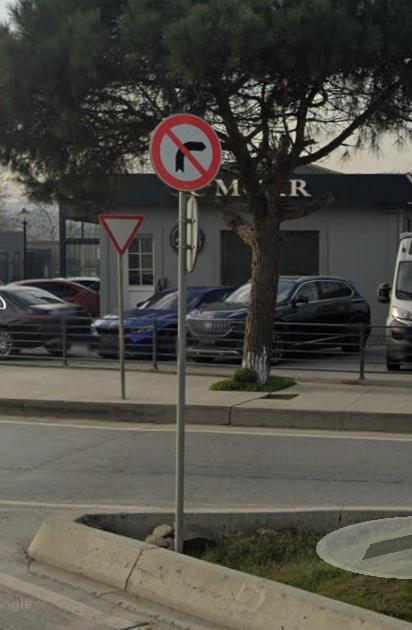rightturnsareforbidden: (152, 115, 224, 186)
